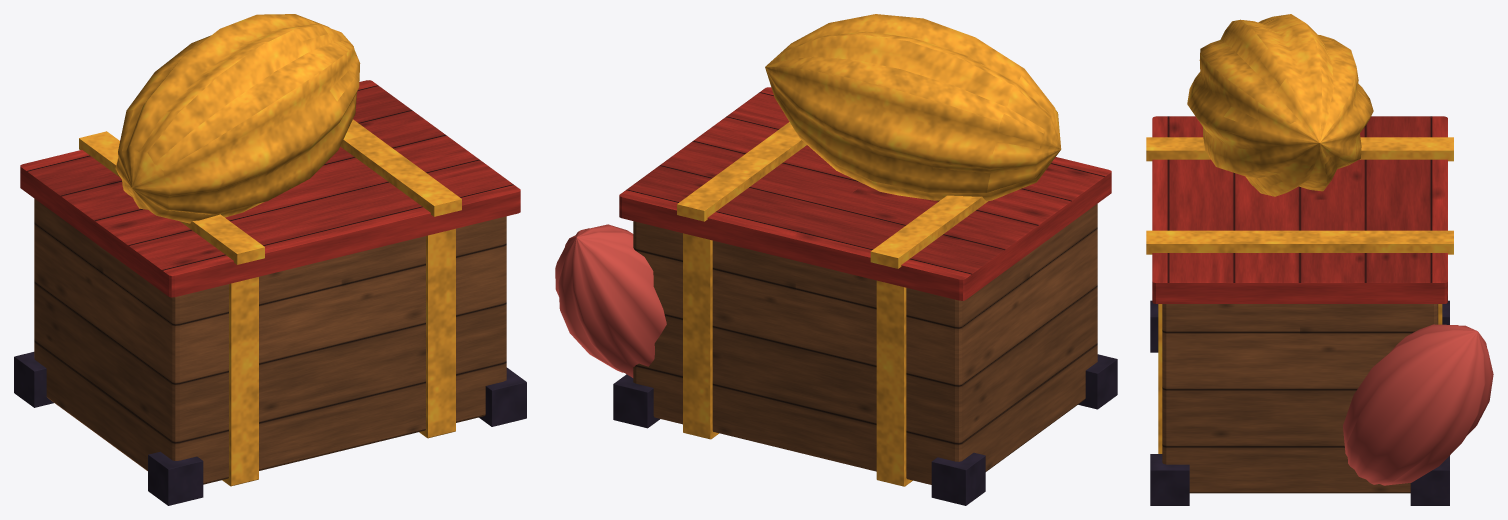
File: CHO_CacaoCrate.fbx
The picture shows the model from 3 angles, left to right: view 1: azimuth 30°, elevation 25°; view 2: azimuth 150°, elevation 25°; view 3: azimuth 270°, elevation 25°; orthographic projection. The views are drawn at different scales.
Visible parts, largest first — view 1: CHO_CacaoCrate; view 2: CHO_CacaoCrate; view 3: CHO_CacaoCrate.
Part boxes in pixels (x1,y1,x2,y2): CHO_CacaoCrate: (14, 14, 526, 505); CHO_CacaoCrate: (555, 14, 1117, 505); CHO_CacaoCrate: (1146, 14, 1493, 505).
Size of the model in its own units: 1.19 by 1.05 by 0.8804.
